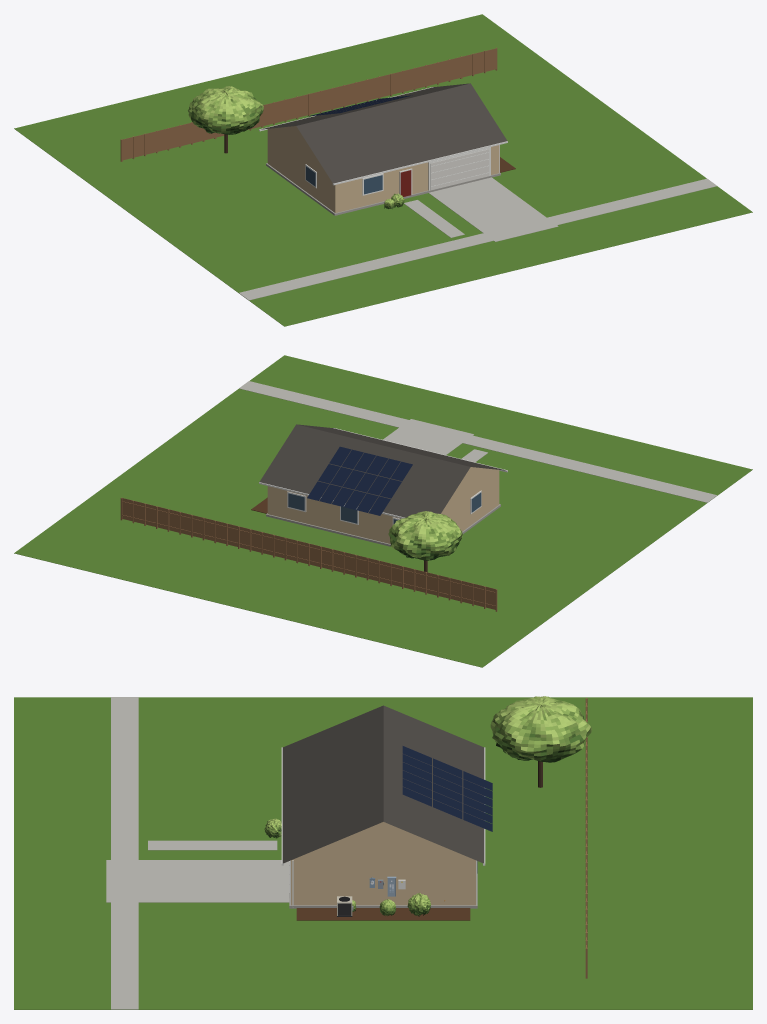
File: home_07_pre_install.obj
The picture shows the model from 3 angles, top to bottom: view 1: azimuth 30°, elevation 25°; view 2: azimuth 150°, elevation 25°; view 3: azimuth 270°, elevation 25°; orthographic projection. The views are drawn at different scales.
Visible parts, largest first — view 1: yard, house, tree_1; view 2: yard, house, solar_array, tree_1; view 3: yard, house, tree_1, solar_array, mulch_bed_side.
Part boxes in pixels (x1,y1,x2,y2): yard: (14, 14, 752, 326); house: (259, 83, 507, 215); tree_1: (188, 86, 263, 153); yard: (14, 355, 752, 667); house: (259, 424, 507, 546); solar_array: (307, 446, 412, 515); tree_1: (388, 511, 462, 572); yard: (14, 697, 752, 1009); house: (281, 705, 485, 908); tree_1: (490, 696, 592, 787); solar_array: (402, 746, 492, 831); mulch_bed_side: (296, 908, 470, 920).
Bounding box in the file's own units: 40 × 5.38 × 40.
